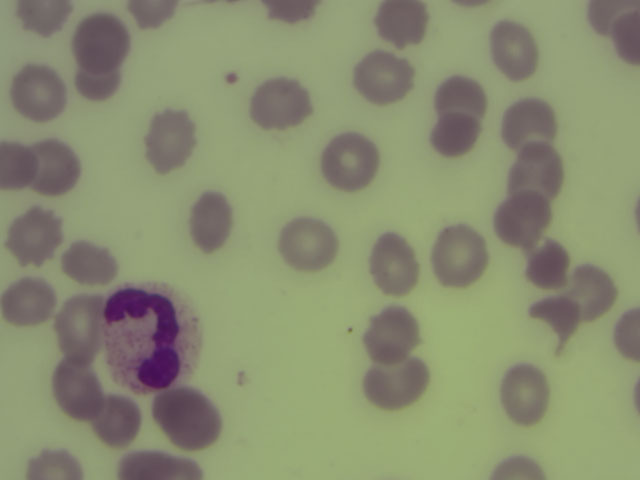Platelets: (216, 68, 248, 91)
RBC: (492, 193, 552, 250), (51, 298, 101, 360), (365, 237, 421, 292), (563, 266, 619, 321), (507, 144, 563, 199), (501, 98, 557, 153), (486, 22, 542, 77), (324, 134, 380, 189), (355, 51, 411, 106), (183, 194, 239, 249), (159, 391, 215, 446), (87, 394, 143, 449), (47, 360, 103, 415), (7, 208, 63, 263), (252, 76, 308, 131), (142, 111, 198, 166), (25, 140, 81, 195), (11, 64, 67, 119), (498, 364, 554, 419), (368, 356, 424, 411), (359, 306, 415, 361), (434, 230, 490, 285), (279, 216, 335, 271), (370, 1, 434, 45), (1, 277, 54, 329), (75, 13, 130, 62), (61, 240, 118, 286), (584, 1, 640, 43), (72, 59, 125, 99), (437, 75, 486, 117), (525, 243, 567, 291), (429, 114, 476, 156), (29, 443, 82, 480), (1, 141, 38, 193), (18, 1, 70, 37), (493, 448, 551, 480), (610, 302, 640, 360), (121, 450, 176, 480), (261, 1, 324, 24), (124, 1, 177, 26)
WBC: (99, 283, 202, 388)
